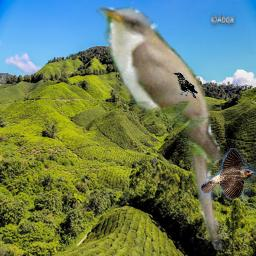Crow: (172, 72, 198, 99)
Cuckoo: (91, 0, 228, 254)
Swallow: (200, 148, 256, 200)
